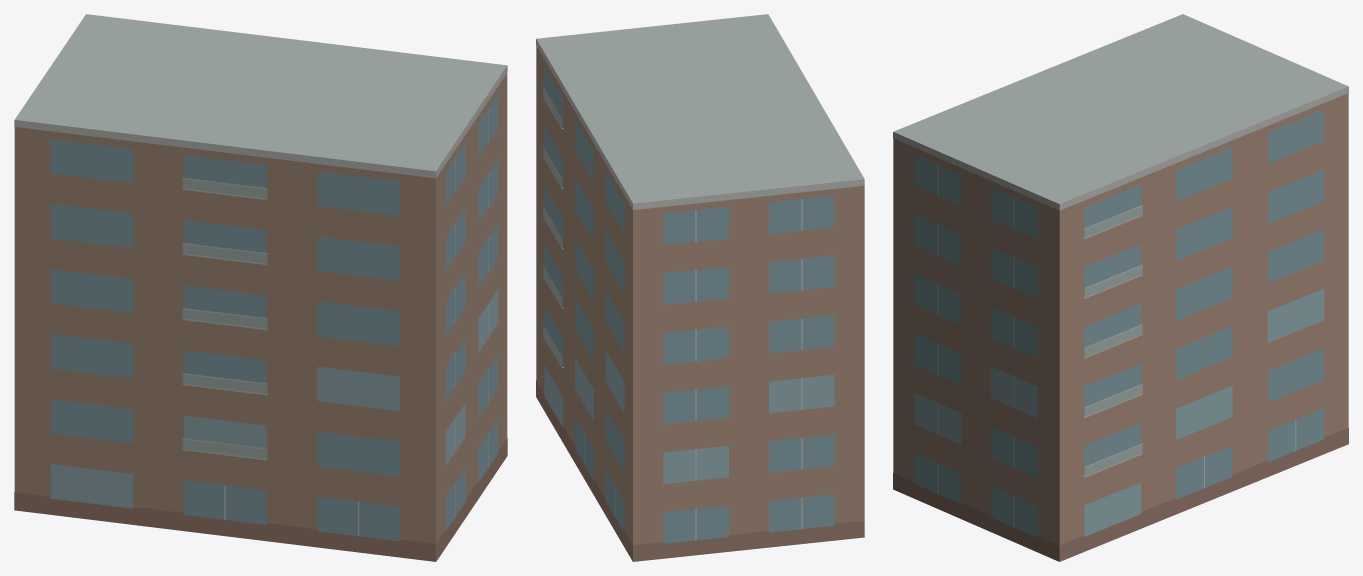
The model's file is survey-upis-33014261.glb.
3 views of the same model, side by side, from view 1: azimuth 30°, elevation 25°; view 2: azimuth 150°, elevation 25°; view 3: azimuth 270°, elevation 25° (orthographic). The views are drawn at different scales.
Visible parts, largest first — view 1: survey-upis-33014261.tmp; view 2: survey-upis-33014261.tmp; view 3: survey-upis-33014261.tmp.
Part boxes in pixels (box(x1,y1,x2,y2)): survey-upis-33014261.tmp: box(14, 14, 507, 561); survey-upis-33014261.tmp: box(536, 14, 864, 561); survey-upis-33014261.tmp: box(893, 14, 1348, 561).
Bounding box in the file's own units: 15.4 × 13.5 × 15.6.
